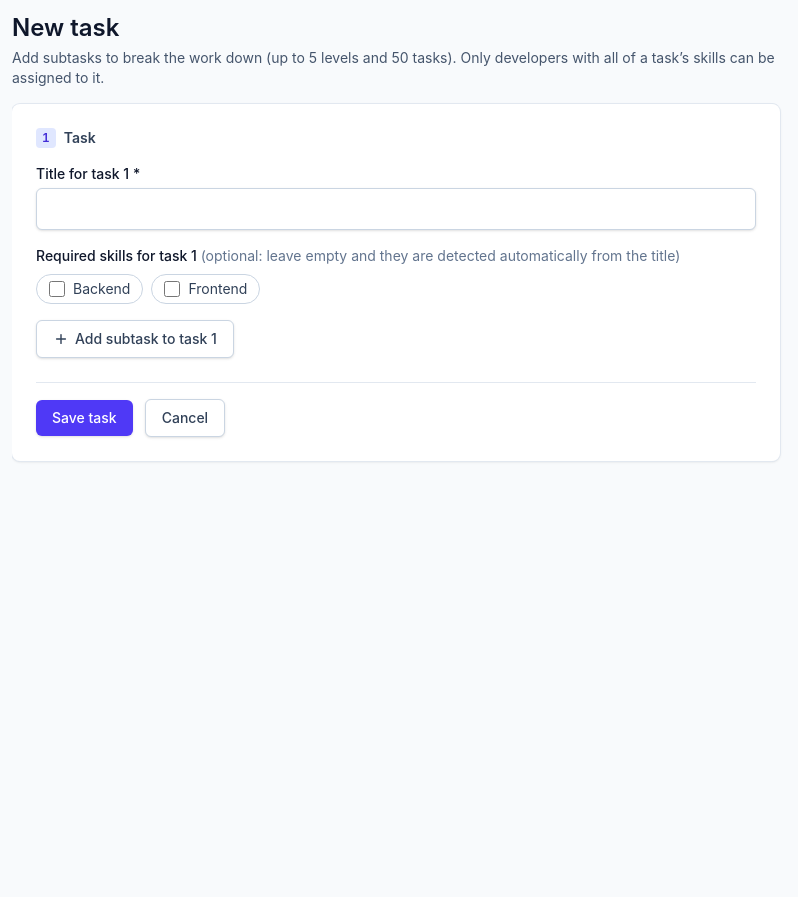
Test: TaskCreatePage › removes a subtask and renumbers the rest
Click the button "Add subtask to task 1" at x=135, y=339, box [36,320,234,358]
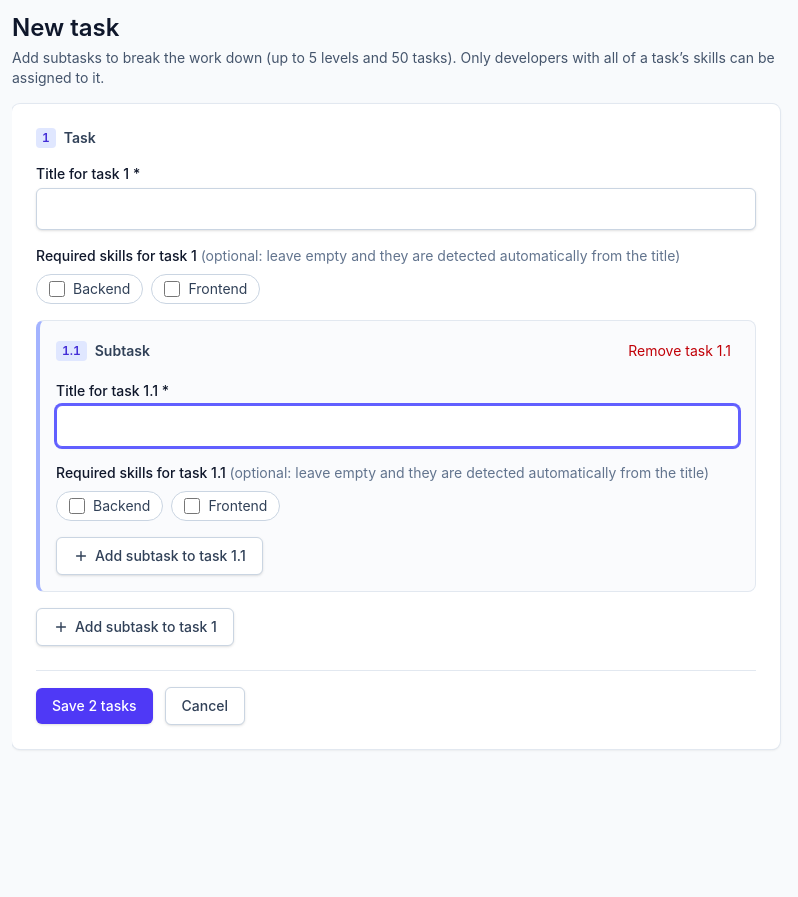
Type keys "First"
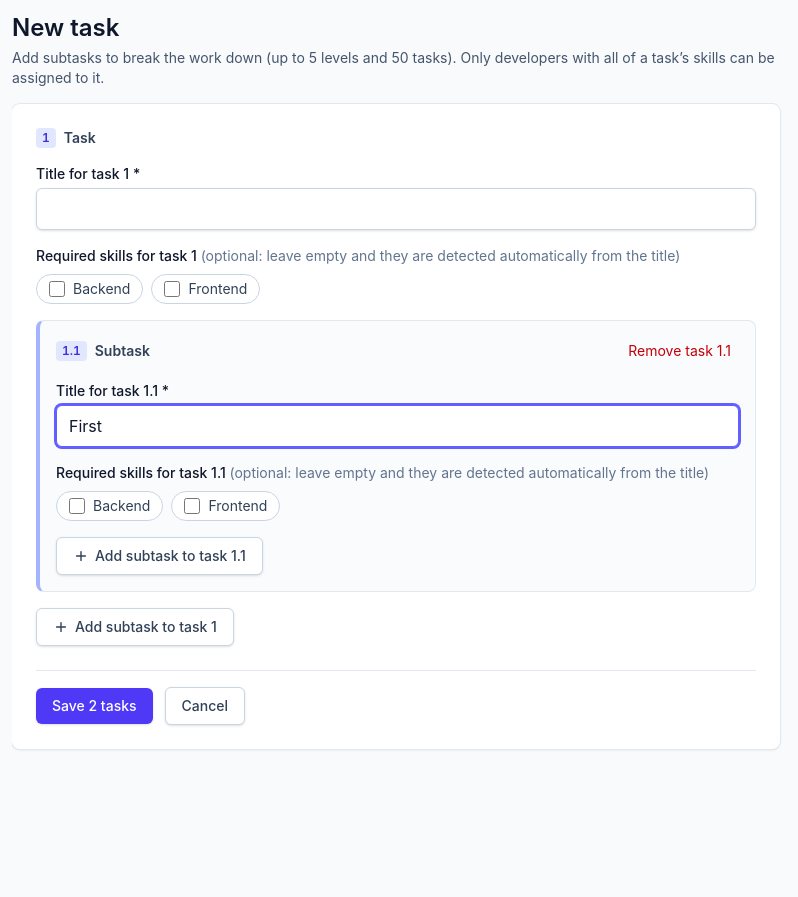
Click the button "Add subtask to task 1" at x=135, y=627, box [36,608,234,646]
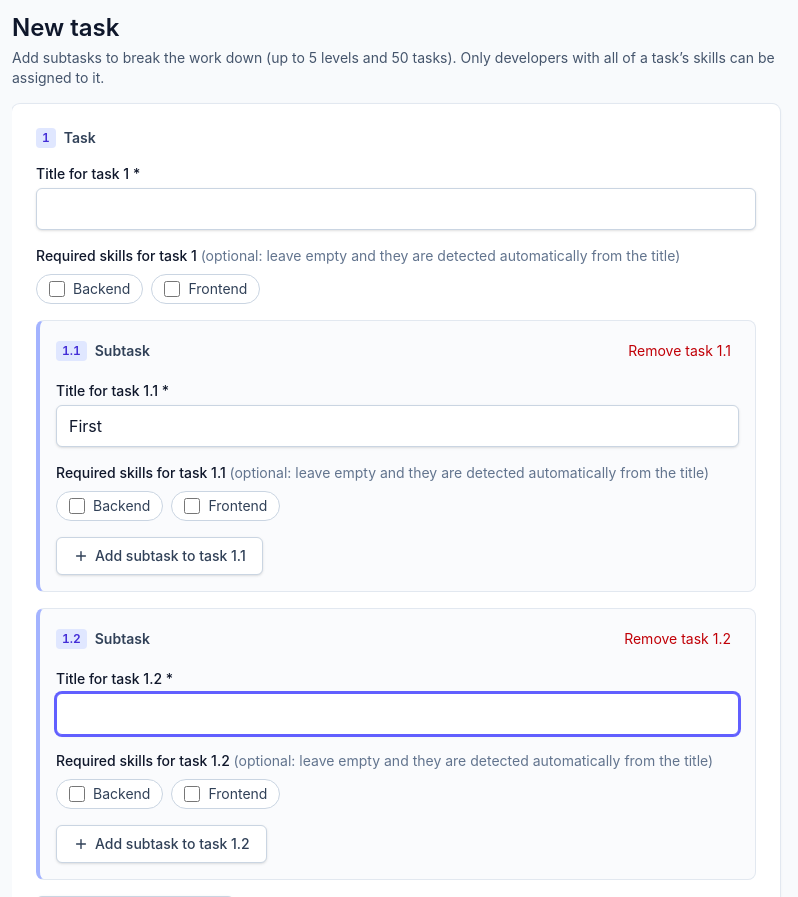
Type keys "Second"
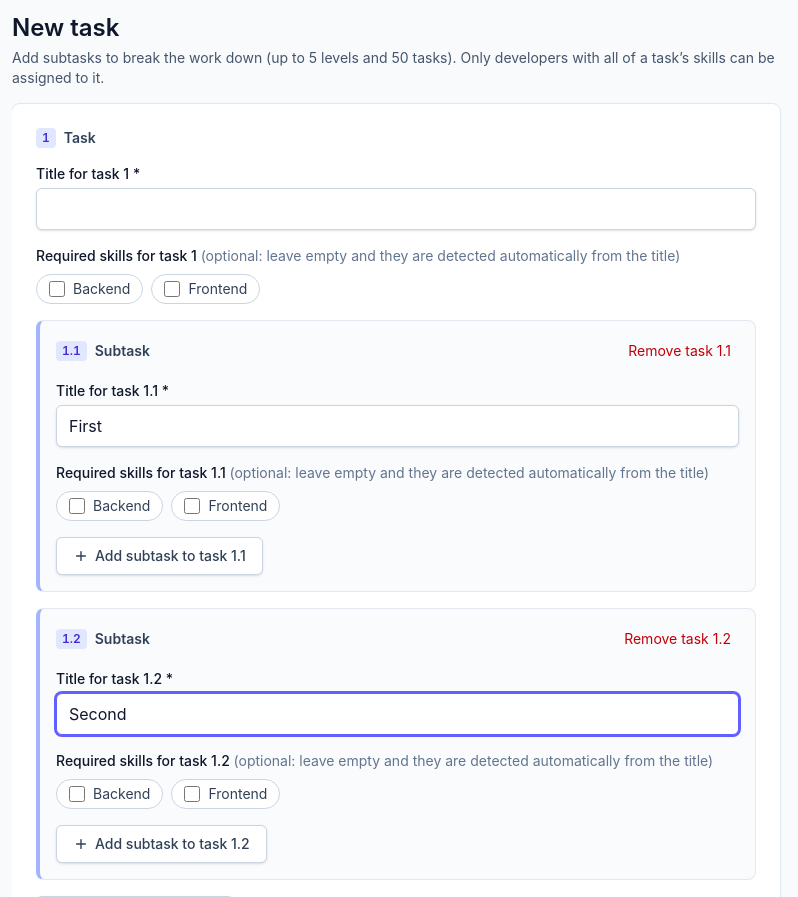
Click the button "Remove task 1.1" at x=680, y=351, box [620,337,739,365]
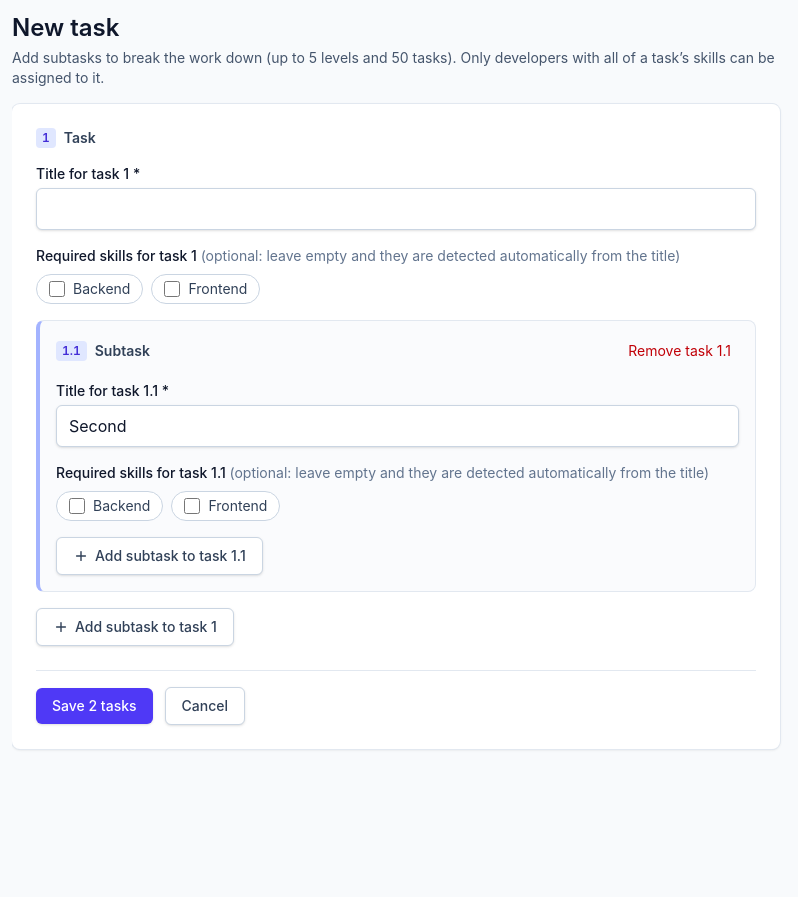
expect the label "Title for task 1.2" is gone: met
